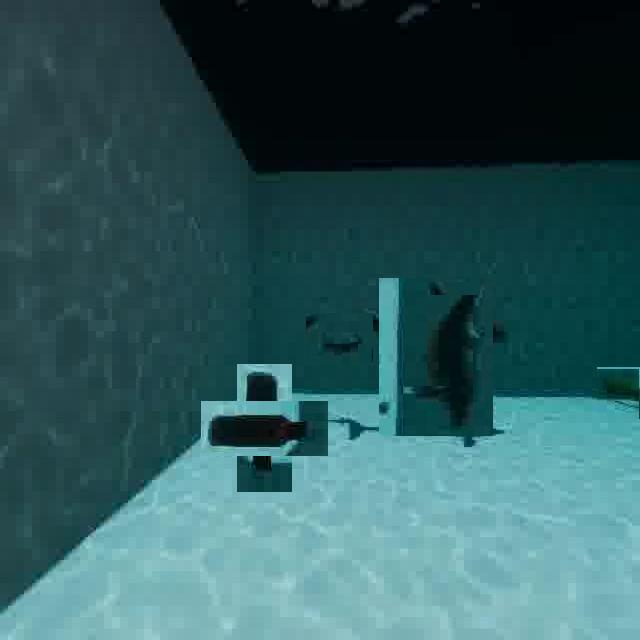Cylinder: (219, 382, 310, 474)
Pipe: (597, 368, 640, 420)
Whale: (368, 289, 503, 425), (306, 313, 373, 365)
